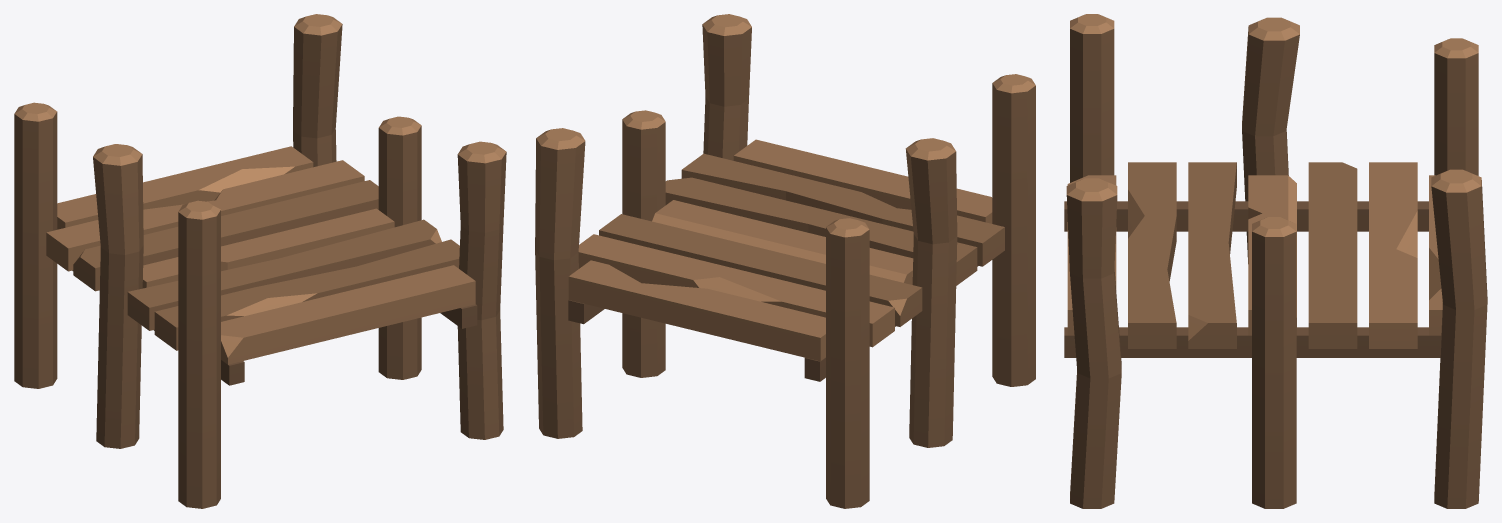
Rendered from wooden pier.fbx.
The picture shows the model from 3 angles, left to right: view 1: azimuth 30°, elevation 25°; view 2: azimuth 150°, elevation 25°; view 3: azimuth 270°, elevation 25°; orthographic projection. The views are drawn at different scales.
Parts seen in each view (by area): view 1: wooden pier; view 2: wooden pier; view 3: wooden pier.
Boxes of the visible parts, <box> form: wooden pier: <box>14,14,506,508</box>; wooden pier: <box>535,14,1035,508</box>; wooden pier: <box>1064,14,1487,508</box>.
Size of the model in its own units: 402 by 350 by 411.
